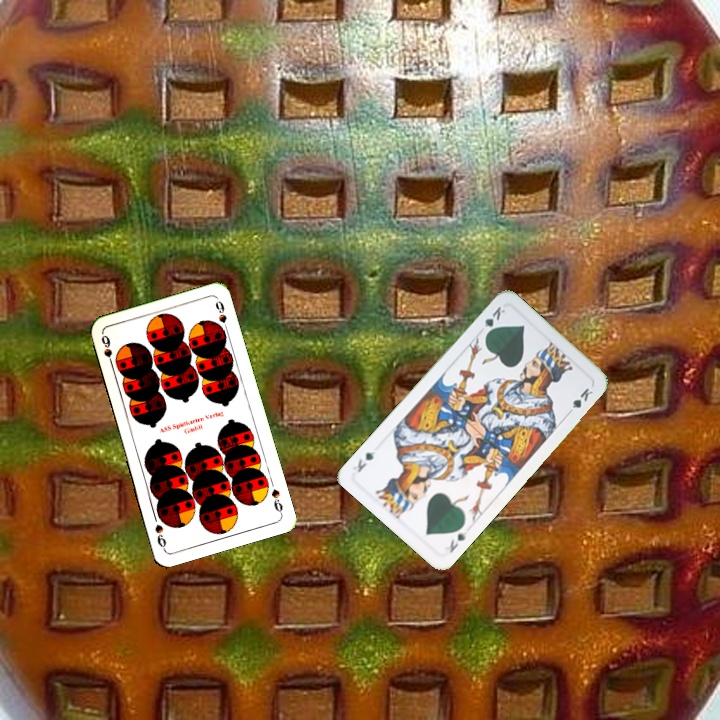GK: (480, 302, 508, 339), (441, 526, 470, 555)
S9: (97, 331, 116, 370), (267, 485, 285, 517)
